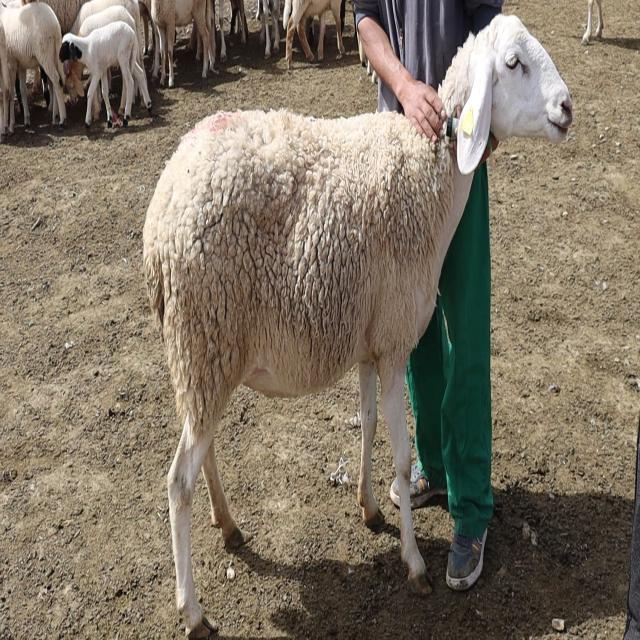Score_3: (143, 14, 572, 638)
